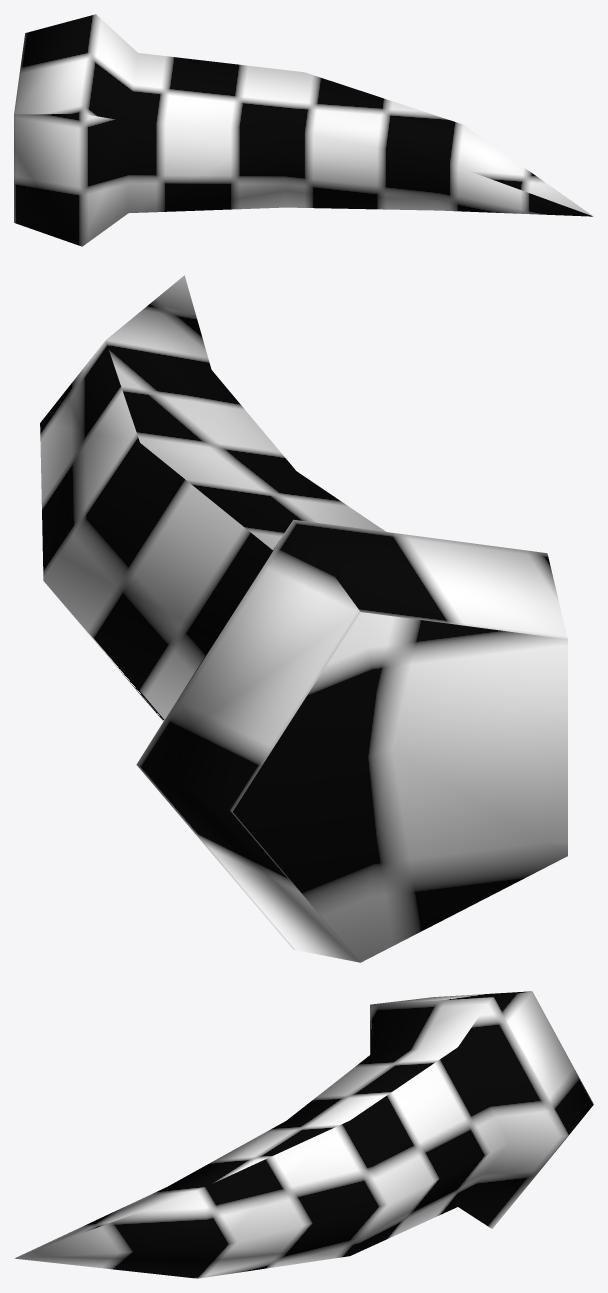
File: initqu28.dae
3 views of the same model, one above another, from view 1: azimuth 30°, elevation 25°; view 2: azimuth 150°, elevation 25°; view 3: azimuth 270°, elevation 25° (orthographic). The views are drawn at different scales.
Visible parts, largest first — view 1: item; view 2: item; view 3: item.
Part boxes in pixels (x1,y1,x2,y2): item: [14, 14, 593, 246]; item: [40, 275, 567, 962]; item: [14, 991, 593, 1278].
Size of the model in its own units: 1.36 by 1.64 by 0.7223.
1 material, 1 textured.
